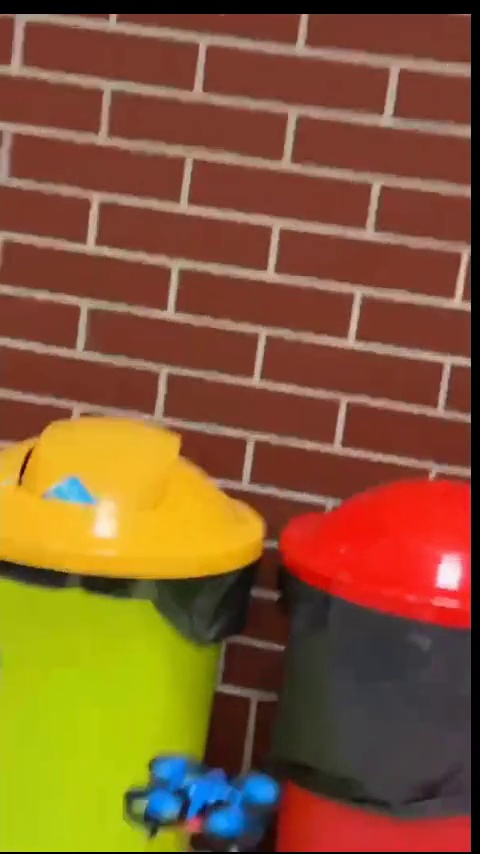drone: (127, 751, 281, 849)
